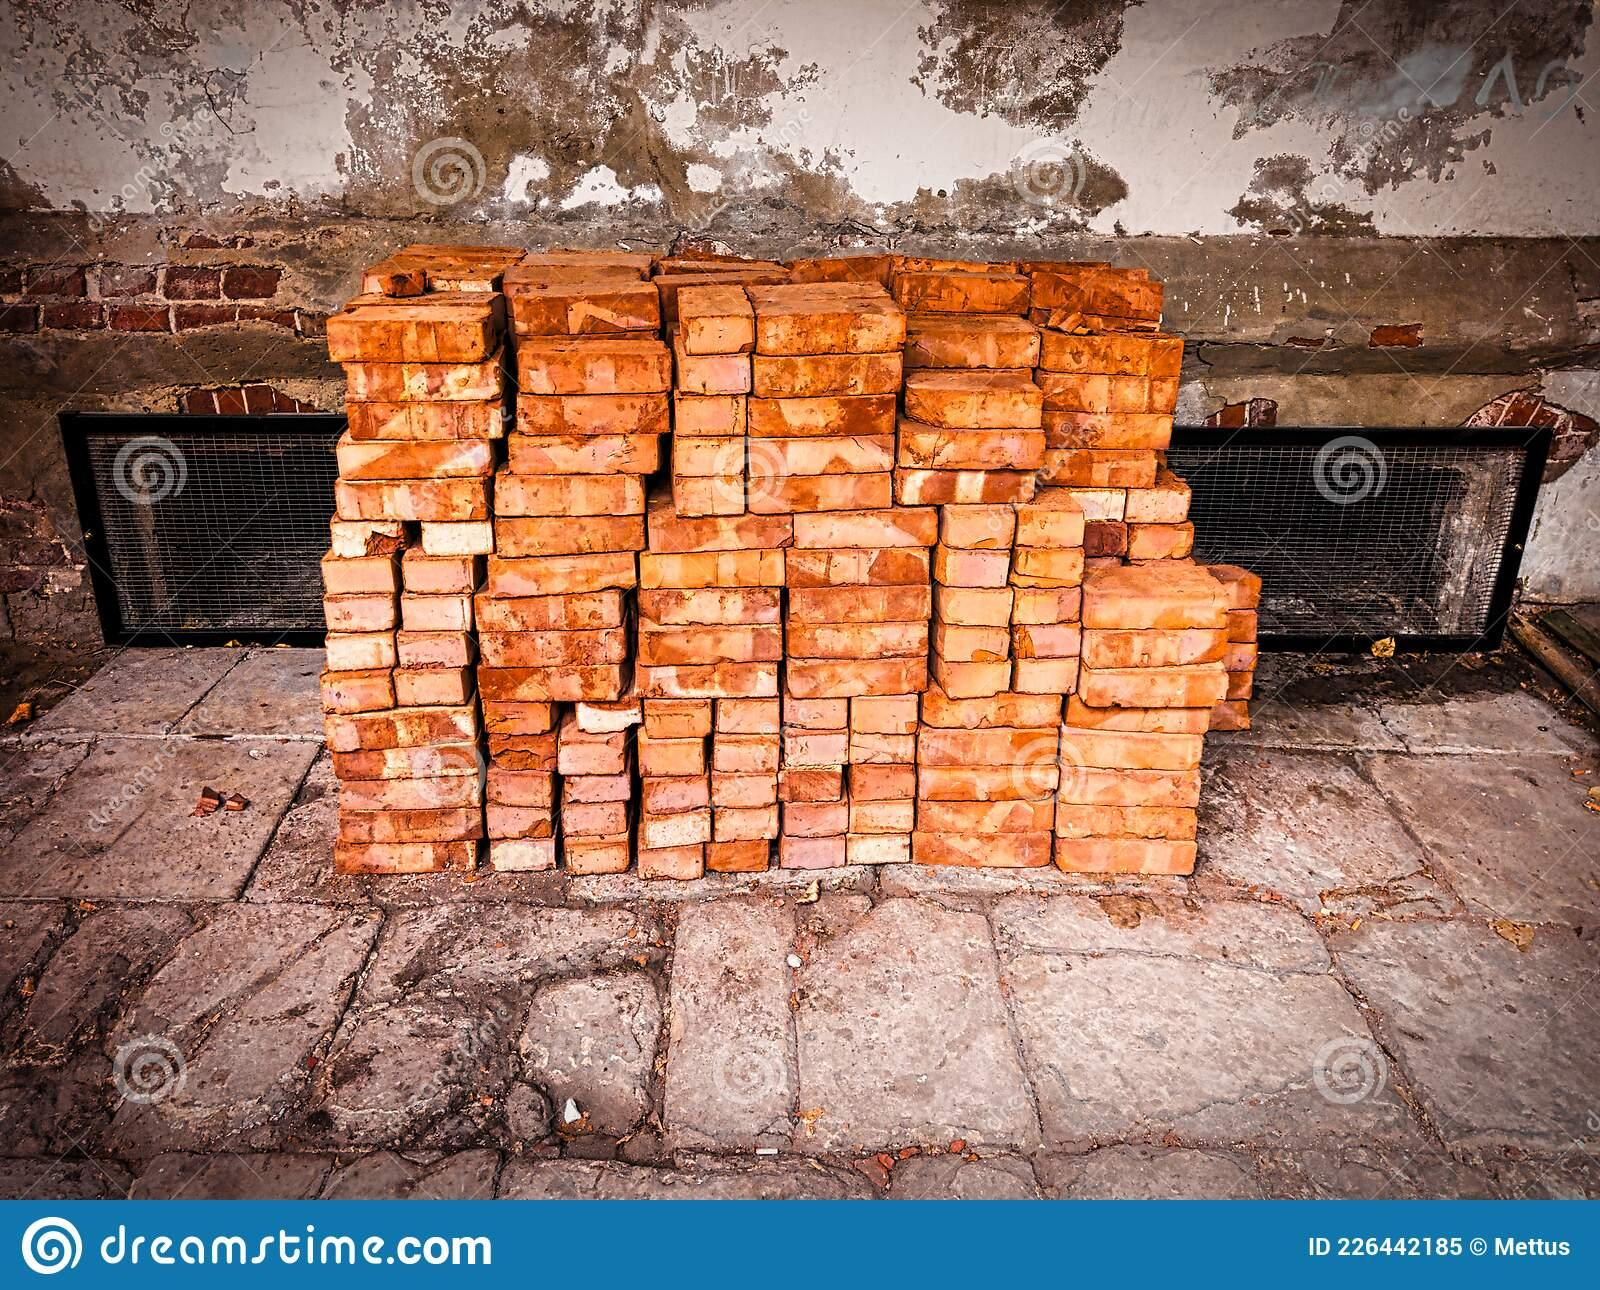brick: (487, 550, 636, 596), (754, 351, 901, 398), (324, 320, 482, 362), (336, 477, 487, 520), (757, 311, 905, 354), (326, 708, 475, 752), (749, 394, 895, 437), (495, 474, 645, 516), (514, 291, 659, 334), (1039, 333, 1184, 376), (517, 353, 671, 394), (1030, 272, 1162, 320), (517, 395, 668, 436), (899, 426, 1045, 469), (336, 440, 491, 479), (749, 434, 893, 477), (475, 590, 620, 632), (496, 516, 645, 557), (795, 508, 938, 550), (749, 473, 892, 513), (641, 548, 784, 588), (638, 624, 782, 665), (1086, 667, 1229, 708), (342, 363, 500, 400), (905, 386, 1043, 428), (786, 546, 928, 587), (346, 403, 503, 440), (787, 657, 928, 698), (509, 434, 658, 473), (334, 740, 478, 779), (1037, 373, 1179, 412), (896, 272, 1029, 315), (1084, 631, 1229, 669), (1064, 695, 1209, 733), (1059, 767, 1199, 807), (649, 515, 792, 553), (789, 584, 930, 623), (638, 587, 779, 625), (1083, 591, 1228, 628), (1061, 731, 1203, 767), (1055, 838, 1197, 875), (479, 629, 625, 665), (896, 467, 1036, 504), (922, 691, 1062, 728), (912, 831, 1051, 867), (787, 621, 928, 657), (918, 765, 1059, 800), (1055, 804, 1196, 840), (633, 662, 779, 696), (1043, 411, 1174, 449), (338, 775, 482, 810), (339, 808, 482, 842), (904, 332, 1039, 367), (476, 667, 620, 700), (918, 798, 1054, 832), (917, 731, 1058, 763), (1038, 449, 1157, 487), (334, 842, 476, 873), (1059, 737, 1203, 766), (941, 507, 1014, 549), (1009, 548, 1086, 587), (678, 353, 751, 394), (321, 671, 392, 713), (321, 555, 396, 594), (684, 313, 754, 354), (676, 475, 743, 517), (325, 632, 396, 671), (675, 396, 745, 436), (674, 437, 743, 477), (332, 521, 405, 558), (401, 555, 472, 594), (942, 588, 1013, 627), (643, 700, 712, 740), (322, 595, 395, 632), (1017, 508, 1084, 548), (714, 733, 780, 773), (393, 669, 466, 704), (645, 808, 709, 848), (943, 662, 1012, 699), (643, 775, 709, 813), (401, 595, 471, 631), (397, 632, 467, 667), (1012, 587, 1080, 623), (576, 696, 642, 733), (946, 549, 1009, 587), (851, 763, 914, 802), (1013, 623, 1080, 658), (489, 735, 557, 770), (712, 771, 776, 808), (421, 521, 492, 554), (943, 625, 1009, 661), (851, 698, 917, 733), (639, 740, 703, 777), (487, 770, 550, 807), (714, 806, 778, 842), (1129, 524, 1195, 558), (563, 840, 629, 874), (559, 737, 622, 773), (638, 845, 703, 879), (786, 729, 847, 765), (786, 800, 847, 836), (1125, 490, 1191, 523), (484, 702, 550, 735), (489, 837, 555, 870), (1016, 658, 1079, 692), (850, 799, 913, 833), (782, 836, 846, 869), (559, 803, 625, 835), (487, 806, 551, 837), (716, 699, 778, 732), (779, 770, 841, 802), (847, 833, 908, 865), (708, 838, 768, 870), (849, 733, 914, 762), (783, 699, 847, 728), (563, 775, 630, 802), (1070, 490, 1125, 521), (1084, 521, 1126, 555)
